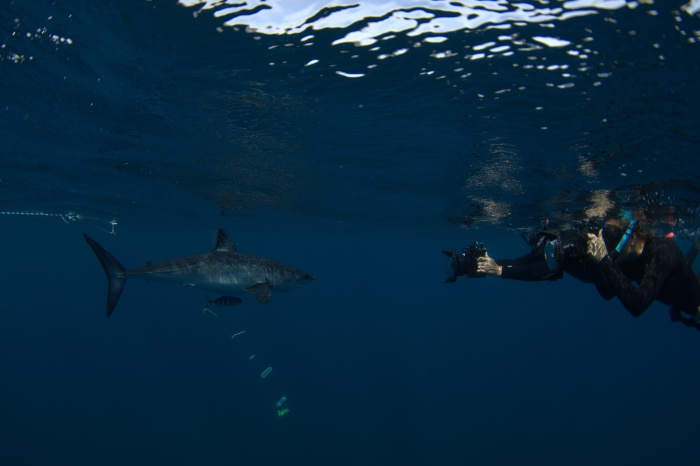Mako: (64, 216, 331, 328)
